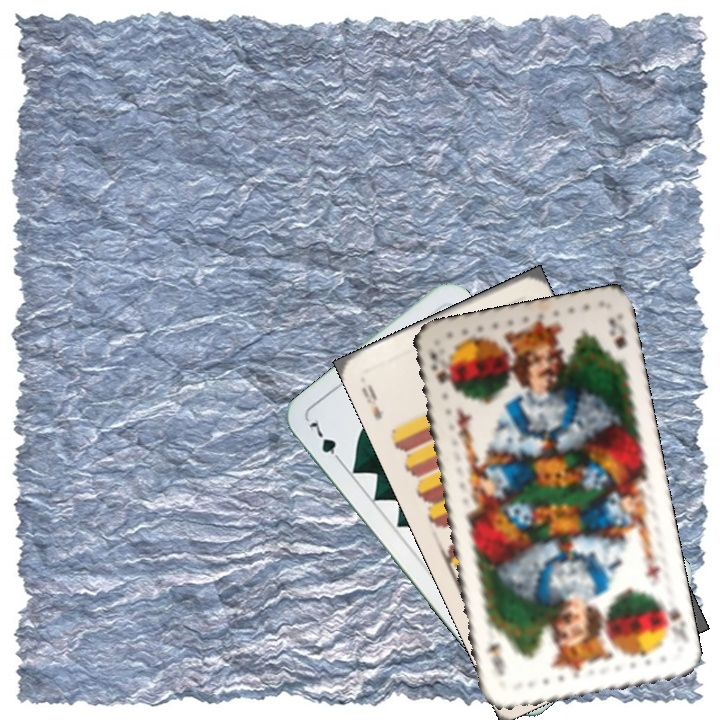E9: (357, 380, 387, 423)
G7: (305, 415, 346, 468)
SK: (655, 596, 691, 646), (424, 346, 450, 386)
